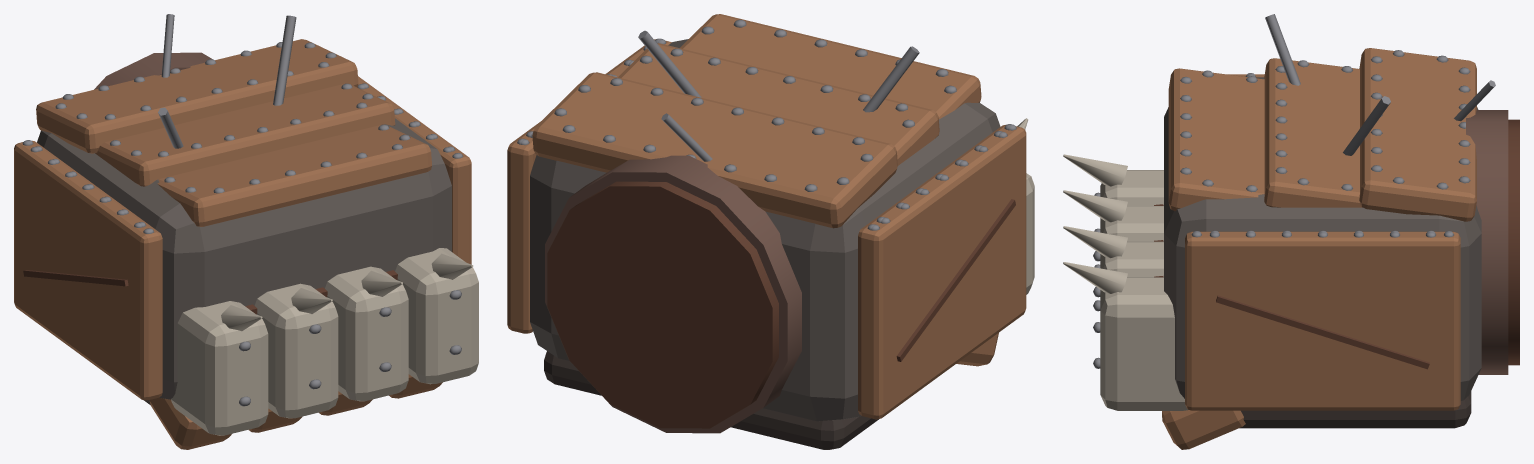
Rendered from gleaner_fist.glb.
3 views of the same model, side by side, from view 1: azimuth 30°, elevation 25°; view 2: azimuth 150°, elevation 25°; view 3: azimuth 270°, elevation 25° (orthographic). The views are drawn at different scales.
Visible parts, largest first — view 1: gl_iron, gl_rust.007, gl_rust, gl_rust.002, gl_rust.001, gl_bone, gl_bone.006, gl_bone.004, gl_bone.002, gl_rust.008, gl_rust.003, gl_heat (+10 smaller); view 2: gl_ember.005, gl_rust.007, gl_rust, gl_iron, gl_rust.001, gl_rust.002, gl_heat, gl_rust.008, gl_soot, gl_ember.003, gl_bone, gl_steel.128 (+3 smaller); view 3: gl_rust.008, gl_rust, gl_iron, gl_rust.001, gl_rust.002, gl_bone.006, gl_heat, gl_soot, gl_ember.005, gl_rust.006, gl_bone.004, gl_ember.004 (+8 smaller).
Boxes of the visible parts, left/top/right/bottom form: gl_iron: left=37, top=118, right=451, bottom=399; gl_rust.007: left=14, top=140, right=162, bottom=400; gl_rust: left=36, top=39, right=358, bottom=153; gl_rust.002: left=157, top=125, right=431, bottom=226; gl_rust.001: left=95, top=84, right=395, bottom=186; gl_bone: left=171, top=301, right=268, bottom=435; gl_bone.006: left=395, top=248, right=478, bottom=384; gl_bone.004: left=325, top=266, right=408, bottom=401; gl_bone.002: left=254, top=283, right=338, bottom=418; gl_rust.008: left=358, top=76, right=471, bottom=264; gl_rust.003: left=149, top=397, right=231, bottom=449; gl_heat: left=94, top=52, right=213, bottom=89; gl_ember.005: left=547, top=181, right=778, bottom=428; gl_rust.007: left=858, top=125, right=1026, bottom=419; gl_rust: left=532, top=72, right=897, bottom=228; gl_iron: left=530, top=39, right=1000, bottom=421; gl_rust.001: left=618, top=43, right=939, bottom=165; gl_rust.002: left=680, top=14, right=981, bottom=119; gl_heat: left=545, top=155, right=801, bottom=433; gl_rust.008: left=507, top=39, right=671, bottom=333; gl_soot: left=544, top=351, right=878, bottom=449; gl_ember.003: left=896, top=199, right=1015, bottom=361; gl_bone: left=1026, top=173, right=1034, bottom=294; gl_steel.128: left=638, top=30, right=701, bottom=97; gl_rust.008: left=1185, top=231, right=1460, bottom=410; gl_rust: left=1359, top=48, right=1476, bottom=221; gl_iron: left=1164, top=77, right=1481, bottom=400; gl_rust.001: left=1264, top=58, right=1362, bottom=207; gl_rust.002: left=1168, top=68, right=1264, bottom=211; gl_bone.006: left=1100, top=277, right=1188, bottom=410; gl_heat: left=1466, top=110, right=1508, bottom=374; gl_soot: left=1239, top=391, right=1471, bottom=428; gl_ember.005: left=1508, top=119, right=1519, bottom=365; gl_rust.006: left=1162, top=410, right=1245, bottom=449; gl_bone.004: left=1100, top=241, right=1163, bottom=292; gl_ember.004: left=1216, top=295, right=1429, bottom=369.
Bounding box in the file's own units: 38.4 × 34.25 × 43.12.
